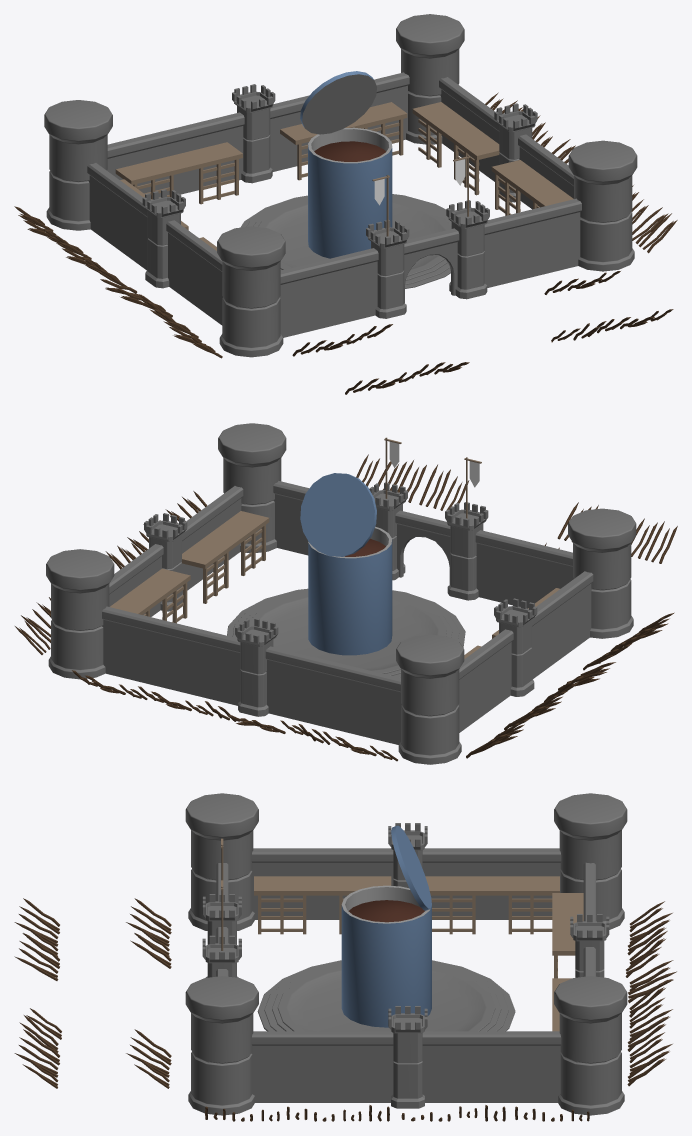
Rendered from Castle.fbx.
3 views of the same model, one above another, from view 1: azimuth 30°, elevation 25°; view 2: azimuth 150°, elevation 25°; view 3: azimuth 270°, elevation 25° (orthographic). The views are drawn at different scales.
Visible parts, largest first — view 1: Castle_Gate, Cat_Food, Wall_03, Wall_01, Round_Tower_01, Round_Tower_02, Round_Tower_04, Wall_02, Ring_of_Death, Round_Tower_03, Ramparts5, Ramparts1 (+7 smaller); view 2: Wall_03, Cat_Food, Castle_Gate, Wall_01, Round_Tower_04, Round_Tower_03, Ring_of_Death, Round_Tower_01, Wall_02, Round_Tower_02, Ramparts3, Ramparts1 (+5 smaller); view 3: Wall_02, Cat_Food, Wall_01, Ring_of_Death, Round_Tower_03, Round_Tower_02, Round_Tower_01, Round_Tower_04, Ramparts4, Spikes3, Ramparts2, Castle_Gate (+5 smaller).
Boxes of the visible parts, x1,y1,x2,y2 form: Castle_Gate: (280, 198, 581, 337); Cat_Food: (300, 71, 392, 258); Wall_03: (107, 72, 409, 198); Wall_01: (87, 163, 222, 325); Round_Tower_01: (217, 226, 285, 357); Round_Tower_02: (568, 140, 637, 271); Round_Tower_04: (44, 100, 112, 230); Wall_02: (439, 77, 573, 209); Ring_of_Death: (240, 194, 451, 288); Round_Tower_03: (396, 14, 464, 144); Ramparts5: (115, 142, 242, 204); Ramparts1: (412, 102, 499, 195); Wall_03: (102, 606, 401, 744); Cat_Food: (300, 473, 392, 655); Castle_Gate: (273, 481, 573, 608); Wall_01: (458, 571, 593, 732); Round_Tower_04: (396, 634, 464, 764); Round_Tower_03: (46, 549, 114, 679); Ring_of_Death: (227, 588, 465, 677); Round_Tower_01: (568, 508, 636, 638); Wall_02: (109, 486, 243, 616); Round_Tower_02: (218, 423, 286, 553); Ramparts3: (182, 511, 269, 603); Ramparts1: (110, 568, 190, 623); Wall_02: (251, 1006, 561, 1108); Cat_Food: (341, 825, 431, 1027); Wall_01: (251, 823, 561, 919); Ring_of_Death: (257, 960, 515, 1031); Round_Tower_03: (554, 976, 627, 1115); Round_Tower_02: (185, 976, 258, 1115); Round_Tower_01: (185, 793, 258, 930); Round_Tower_04: (554, 793, 627, 929); Ramparts4: (425, 876, 559, 934); Spikes3: (625, 901, 676, 1086); Ramparts2: (254, 876, 391, 934); Castle_Gate: (202, 863, 241, 977).
Bounding box in the file's own units: 50.72 × 16.23 × 54.2.
